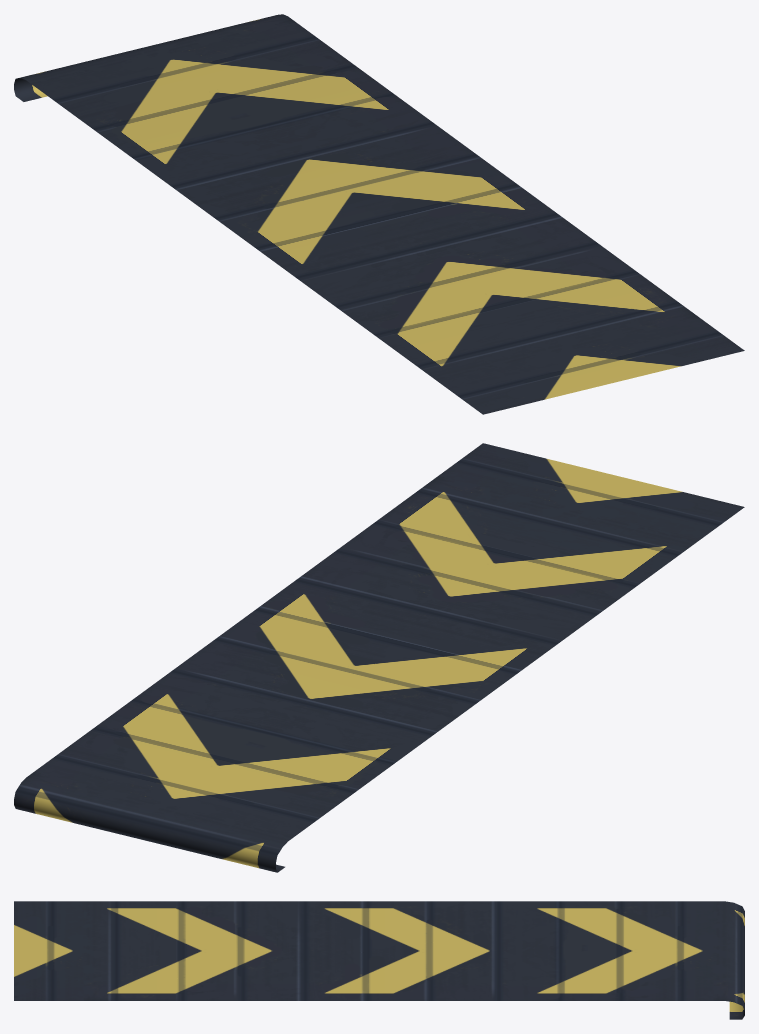
The model's file is TrashMan Conveyor Belt 1.fbx.
3 views of the same model, one above another, from view 1: azimuth 30°, elevation 25°; view 2: azimuth 150°, elevation 25°; view 3: azimuth 270°, elevation 25° (orthographic). The views are drawn at different scales.
Parts seen in each view (by area): view 1: Trash Man Conveyor Belt 1; view 2: Trash Man Conveyor Belt 1; view 3: Trash Man Conveyor Belt 1.
Part boxes in pixels (bbox=[...]): Trash Man Conveyor Belt 1: bbox=[14, 14, 744, 414]; Trash Man Conveyor Belt 1: bbox=[14, 443, 744, 872]; Trash Man Conveyor Belt 1: bbox=[14, 901, 744, 1019].
Bounding box in the file's own units: 990 × 85.51 × 3072.
